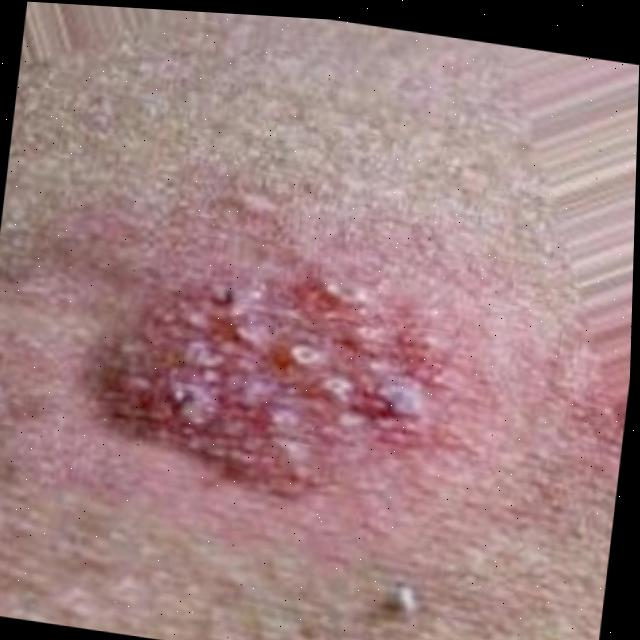Shingles: (94, 262, 416, 485)
